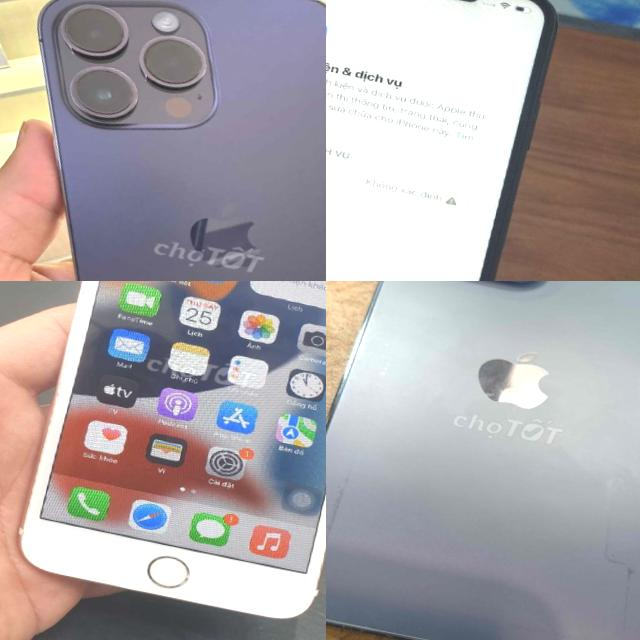scratch: (566, 443, 640, 640), (326, 431, 360, 586)
